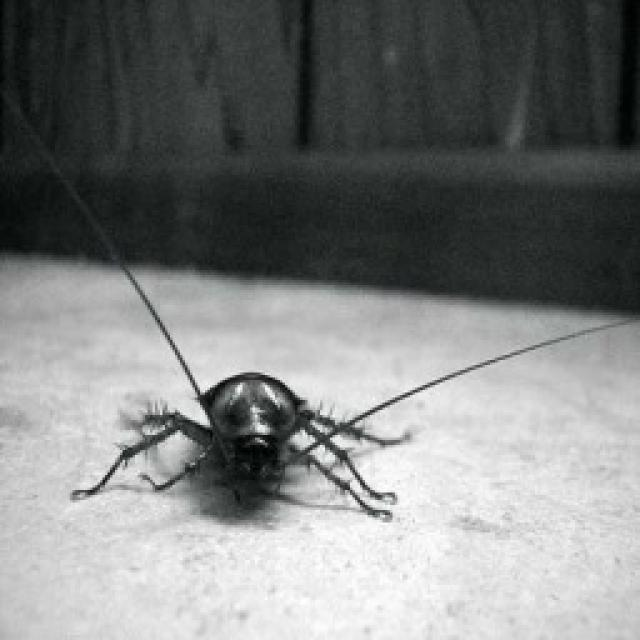cockroach: (57, 338, 436, 538)
